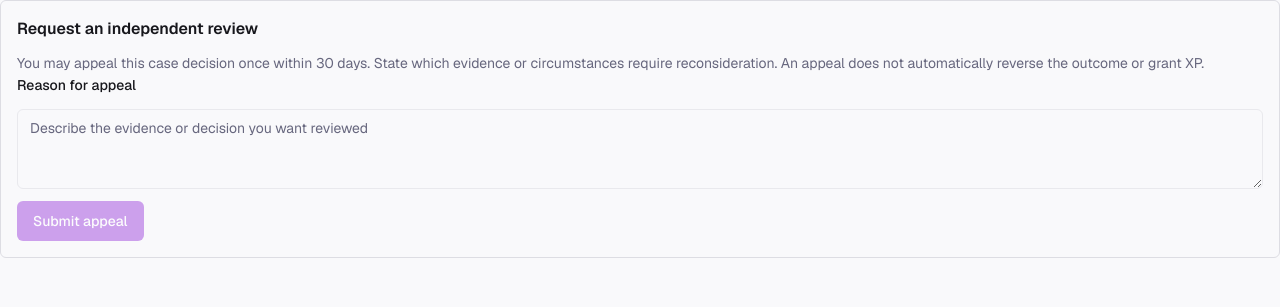
Test: ExchangeCaseAppealForm › shows an authoritative rejection without claiming success
This screenshot has width=1280, height=307.
Type "The evidence was not reviewed accurately." into the text box labelled "Reason for appeal" at (640, 149), box [17, 109, 1263, 189]
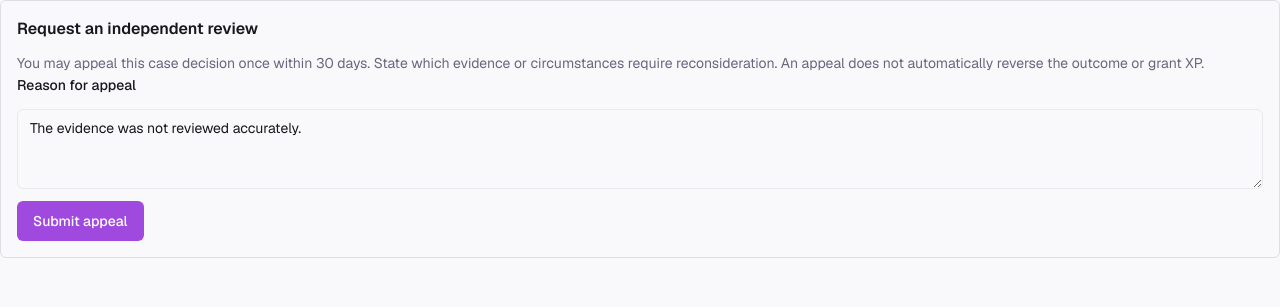
Click the button "Submit appeal" at (80, 221), box [17, 201, 144, 241]
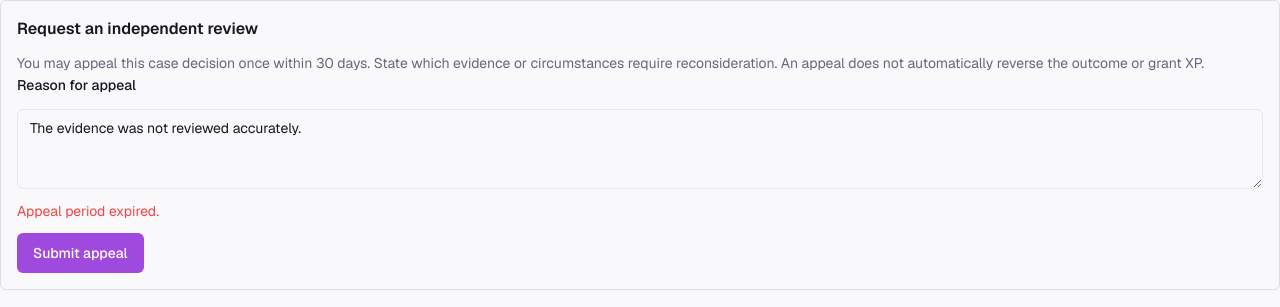
Now the button "Submit appeal" is enabled, box [17, 233, 144, 273]
Now the message reads "Appeal period expired.", box [17, 202, 159, 220]
